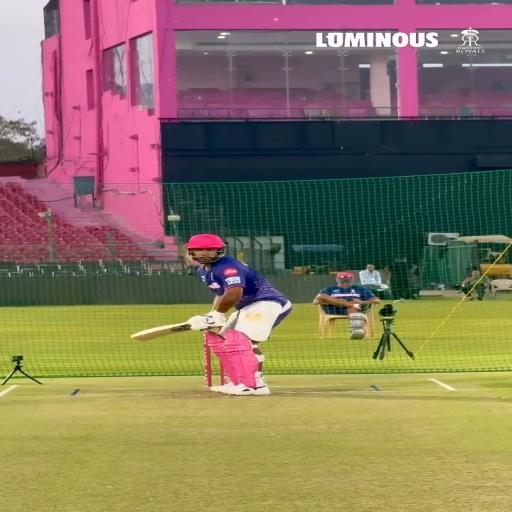Cricket bat: (132, 322, 191, 340)
